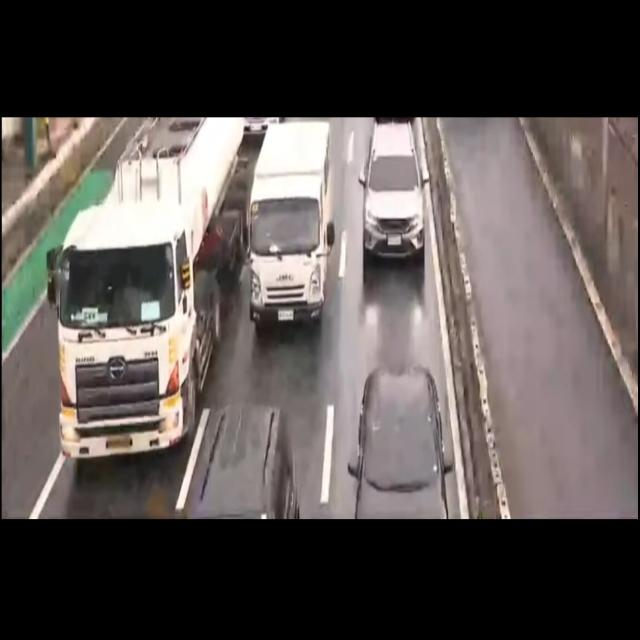Pick-up: (248, 127, 332, 335)
SUV: (183, 407, 301, 520), (355, 129, 425, 267)
Sedan: (344, 363, 454, 520)
Truck: (46, 119, 252, 462)
